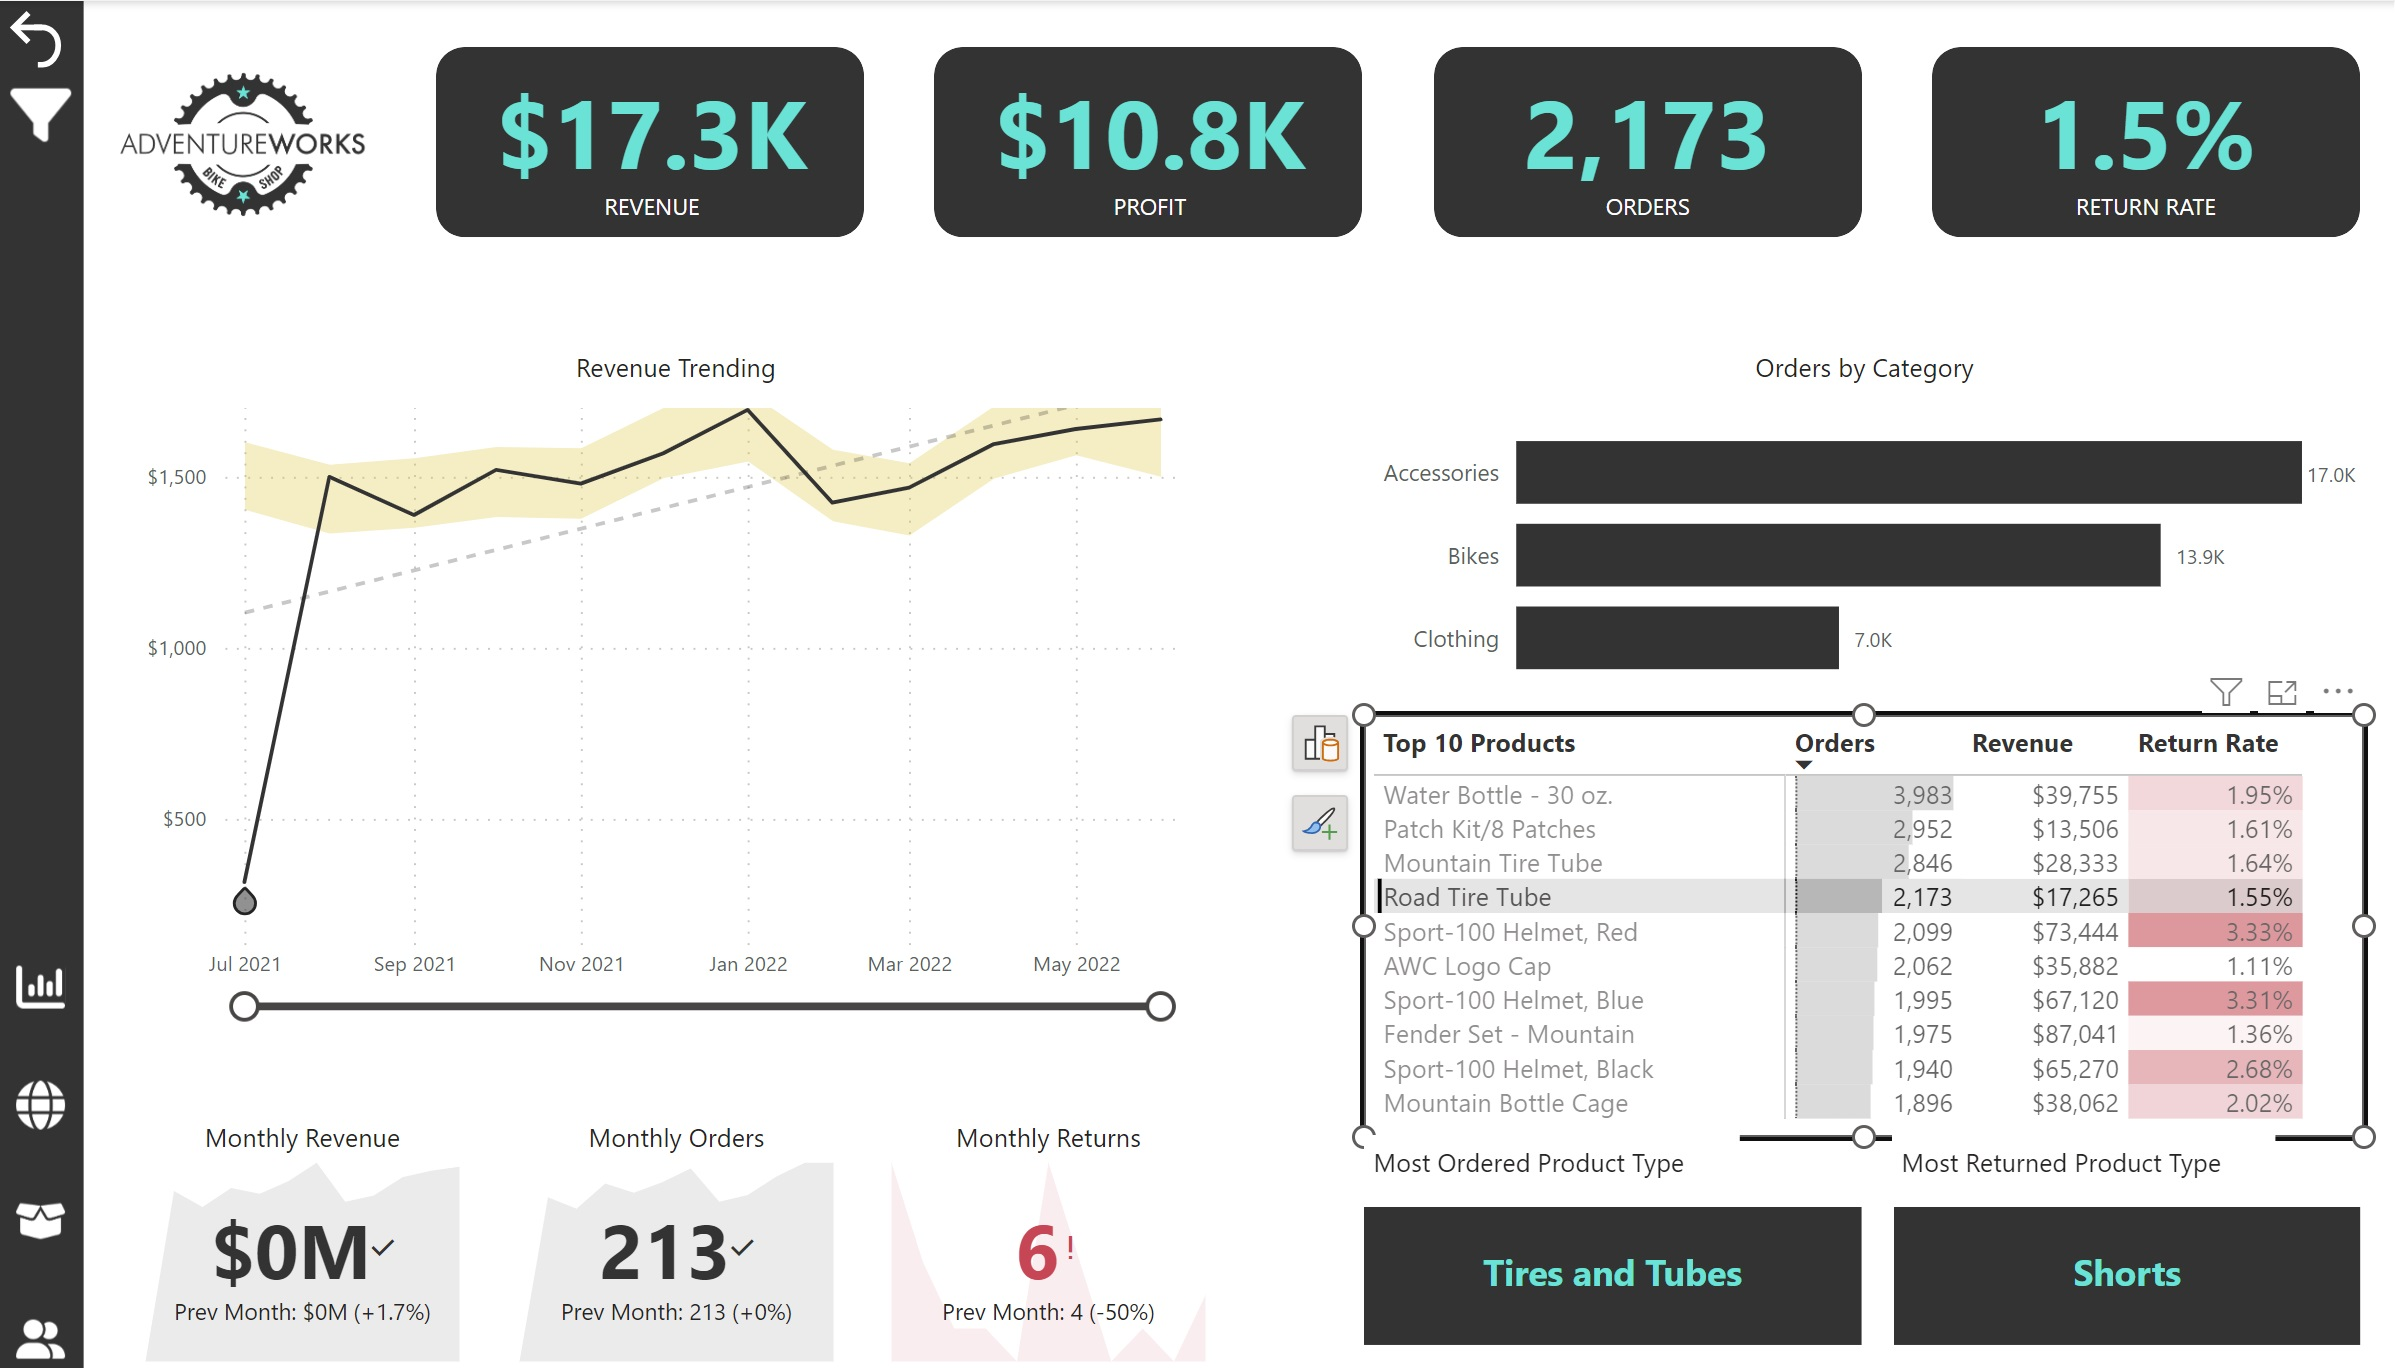

Layout of this report page (visuals, bound fields, positions):
{"tool":"powerbi","page":{"name":"Executive Dashboard","canvas":[1280,720],"ordinal":0},"visuals":[{"type":"card","fields":{"Values":["Measure Table.Total Profit"]},"box":[476.2,0,256.2,150],"z":0,"group":"g2"},{"type":"image","title":"AW Logo","box":[45,19,167.5,112.5],"z":0},{"type":"group","id":"g1","title":"KPI Backgrounds","box":[230,23.7,1011.2,100],"z":0,"group":"g3"},{"type":"shape","box":[230,23.7,225,100],"z":0,"group":"g1"},{"type":"shape","title":"Left Nav Background","box":[0,0,45,720],"z":1000},{"type":"group","id":"g2","title":"KPI Values","box":[215,0,1041.2,150],"z":1000,"group":"g3"},{"type":"card","fields":{"Values":["Measure Table.Total Orders"]},"box":[738.8,0,256.2,150],"z":1000,"group":"g2"},{"type":"shape","box":[492.1,23.7,225,100],"z":1000,"group":"g1"},{"type":"group","id":"g3","title":"KPIs","box":[215,0,1041.2,150],"z":2000},{"type":"card","fields":{"Values":["Measure Table.Return Rate"]},"box":[1000,0,256.2,150],"z":2000,"group":"g2"},{"type":"shape","box":[754.2,23.7,225,100],"z":2000,"group":"g1"},{"type":"card","fields":{"Values":["Measure Table.Total Revenue"]},"box":[215,0,256.2,150],"z":3000,"group":"g2"},{"type":"shape","box":[1016.2,23.7,225,100],"z":3000,"group":"g1"},{"type":"lineChart","title":"Revenue Trending","fields":{"Y":["Measure Table.Total Revenue"],"Category":["Calendar Lookup.Start of Month"]},"box":[72.5,182.5,567.5,356.2],"z":3000},{"type":"kpi","title":"Monthly Revenue","fields":{"Indicator":["Measure Table.Total Revenue"],"TrendLine":["Calendar Lookup.Start of Month"],"Goal":["Measure Table.Previous Month Revenue"]},"box":[72.5,587.5,175,132.5],"z":4000},{"type":"kpi","title":"Monthly Orders","fields":{"TrendLine":["Calendar Lookup.Start of Month"],"Indicator":["Measure Table.Total Orders"],"Goal":["Measure Table.Previous Month Orders"]},"box":[268.8,587.5,175,132.5],"z":5000},{"type":"kpi","title":"Monthly Returns","fields":{"TrendLine":["Calendar Lookup.Start of Month"],"Indicator":["Measure Table.Total Returns"],"Goal":["Measure Table.Previous Month Return"]},"box":[465,587.5,175,132.5],"z":6000},{"type":"clusteredBarChart","title":"Orders by Category","fields":{"Category":["Product Categories Lookup.CategoryName"],"Y":["Measure Table.Total Orders"]},"box":[717.5,182.5,526.2,192.5],"z":7000},{"type":"pivotTable","fields":{"Rows":["Product Lookup.ProductName"],"Values":["Measure Table.Total Orders","Measure Table.Total Revenue","Measure Table.Return Rate"]},"box":[717.5,375,526.2,222.5],"z":8000},{"type":"card","fields":{"Values":["Min(Product Subcategories Lookup.SubcategoryName)"]},"box":[717.5,633.8,261.2,72.5],"z":9000},{"type":"textbox","box":[717.5,595.6,197.5,37.5],"z":10000},{"type":"card","fields":{"Values":["Min(Product Subcategories Lookup.SubcategoryName)"]},"box":[996.2,633.8,245,72.5],"z":11000},{"type":"textbox","box":[995.6,595.6,201.2,37.5],"z":12000},{"type":"actionButton","box":[0,0,45,40],"z":13000},{"type":"actionButton","box":[0,501.2,45,33.8],"z":14000},{"type":"actionButton","box":[0,562.9,45,33.8],"z":15000},{"type":"actionButton","box":[0,624.6,45,33.8],"z":16000},{"type":"actionButton","box":[0,686.2,45,33.8],"z":17000},{"type":"actionButton","box":[0,40,45,40],"z":18000}]}

Visuals, with their boxes on the page's 1280x720 design canvas (x1, y1, x2, y2). These are canvas units, not pixel positions in the 2395x1368 screenshot, which may show the page scaled, cropped or inside an application window:
card - Measure Table.Total Profit: pyautogui.locateOnScreen(476, 0, 732, 150)
"AW Logo" image: pyautogui.locateOnScreen(45, 19, 212, 132)
"KPI Backgrounds" group: pyautogui.locateOnScreen(230, 24, 1241, 124)
shape: pyautogui.locateOnScreen(230, 24, 455, 124)
"Left Nav Background" shape: pyautogui.locateOnScreen(0, 0, 45, 720)
"KPI Values" group: pyautogui.locateOnScreen(215, 0, 1256, 150)
card - Measure Table.Total Orders: pyautogui.locateOnScreen(739, 0, 995, 150)
shape: pyautogui.locateOnScreen(492, 24, 717, 124)
"KPIs" group: pyautogui.locateOnScreen(215, 0, 1256, 150)
card - Measure Table.Return Rate: pyautogui.locateOnScreen(1000, 0, 1256, 150)
shape: pyautogui.locateOnScreen(754, 24, 979, 124)
card - Measure Table.Total Revenue: pyautogui.locateOnScreen(215, 0, 471, 150)
shape: pyautogui.locateOnScreen(1016, 24, 1241, 124)
"Revenue Trending" lineChart: pyautogui.locateOnScreen(72, 182, 640, 539)
"Monthly Revenue" kpi: pyautogui.locateOnScreen(72, 588, 248, 720)
"Monthly Orders" kpi: pyautogui.locateOnScreen(269, 588, 444, 720)
"Monthly Returns" kpi: pyautogui.locateOnScreen(465, 588, 640, 720)
"Orders by Category" clusteredBarChart: pyautogui.locateOnScreen(718, 182, 1244, 375)
pivotTable - Product Lookup.ProductName x Measure Table.Total Orders: pyautogui.locateOnScreen(718, 375, 1244, 598)
card - Min(Product Subcategories Lookup.SubcategoryName): pyautogui.locateOnScreen(718, 634, 979, 706)
textbox: pyautogui.locateOnScreen(718, 596, 915, 633)
card - Min(Product Subcategories Lookup.SubcategoryName): pyautogui.locateOnScreen(996, 634, 1241, 706)
textbox: pyautogui.locateOnScreen(996, 596, 1197, 633)
actionButton: pyautogui.locateOnScreen(0, 0, 45, 40)
actionButton: pyautogui.locateOnScreen(0, 501, 45, 535)
actionButton: pyautogui.locateOnScreen(0, 563, 45, 597)
actionButton: pyautogui.locateOnScreen(0, 625, 45, 658)
actionButton: pyautogui.locateOnScreen(0, 686, 45, 720)
actionButton: pyautogui.locateOnScreen(0, 40, 45, 80)
